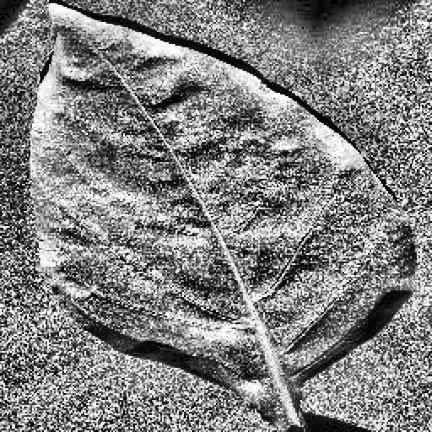leaf: (30, 4, 415, 430)
